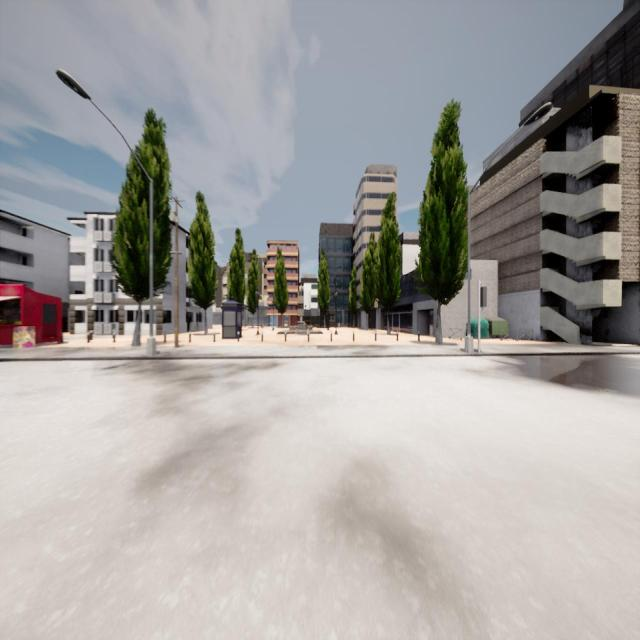traffic_light: (480, 288, 486, 306)
